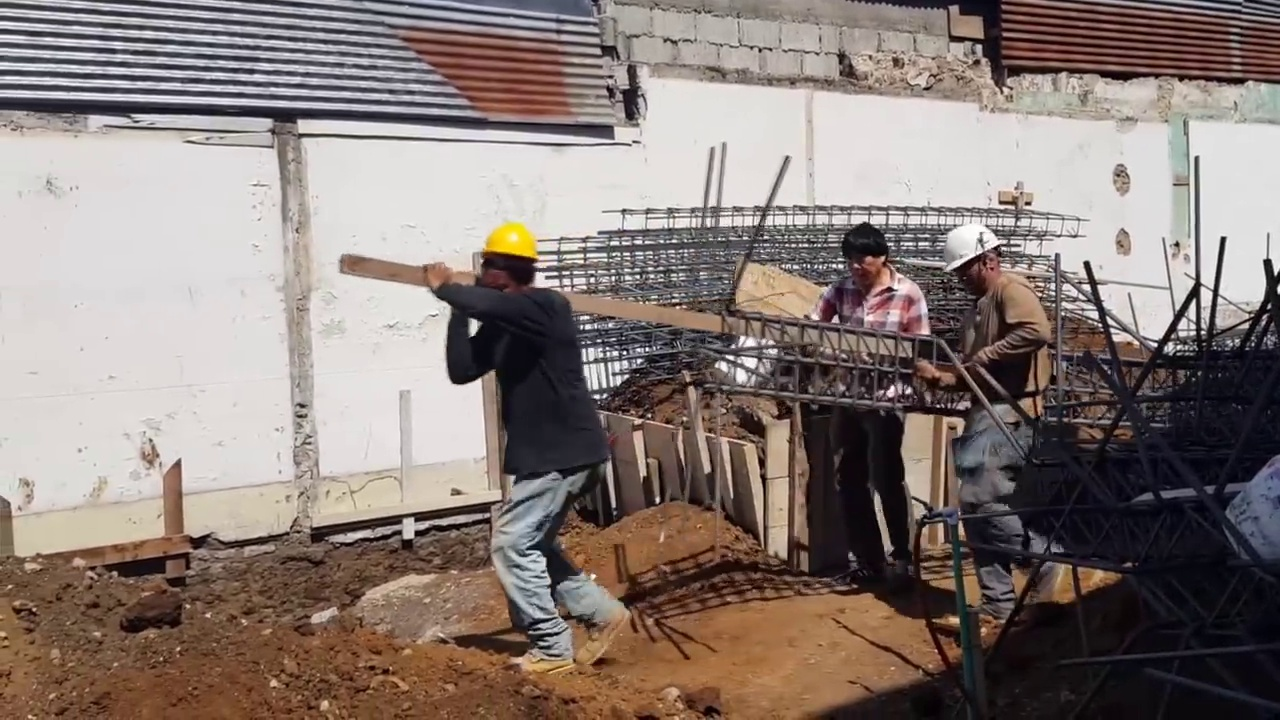helmet: (938, 221, 999, 275), (472, 226, 540, 263)
helmet-off: (841, 223, 891, 286)
helmet-on: (473, 221, 539, 301), (936, 217, 1002, 295)
person: (436, 219, 628, 689), (776, 233, 935, 600), (929, 206, 1055, 654)
